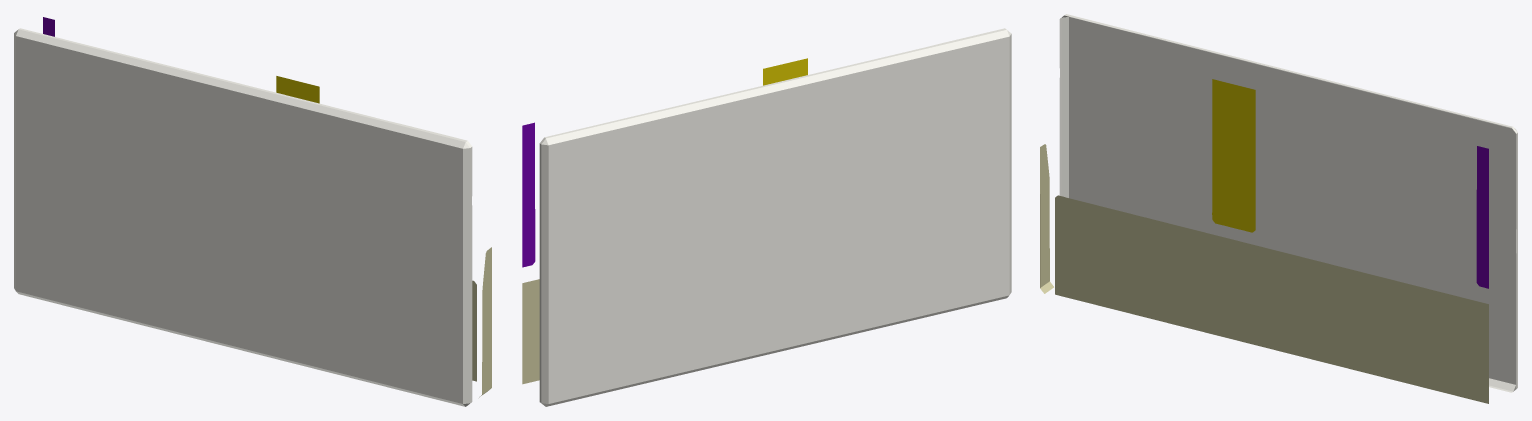
File: Paper_002.fbx
3 views of the same model, side by side, from view 1: azimuth 90°, elevation 25°; view 2: azimuth 150°, elevation 25°; view 3: azimuth 270°, elevation 25° (orthographic).
Visible parts, largest first — view 1: Paper_002; view 2: Paper_002; view 3: Paper_002.
Boxes of the visible parts, <box> form: Paper_002: <box>14,17,491,406</box>; Paper_002: <box>522,28,1011,406</box>; Paper_002: <box>1040,14,1517,403</box>.
Bounding box in the file's own units: 0.3895 × 0.3644 × 0.596.
